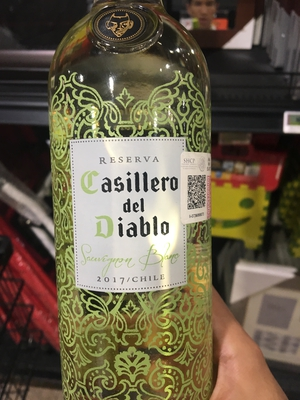casillero del diablo sauvignon blanc: (38, 10, 222, 400)
